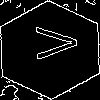V: (25, 25, 78, 61)
